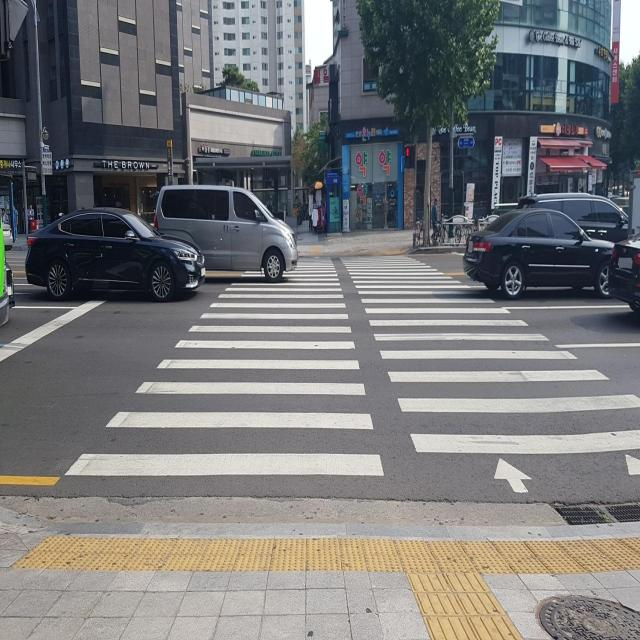빨간불: (404, 146, 411, 168)
횡단보도: (64, 240, 640, 492)
